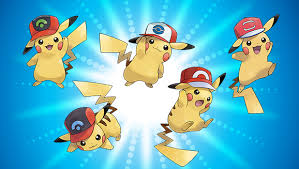pikachu: (154, 66, 228, 165), (96, 16, 197, 85), (16, 14, 87, 89), (228, 15, 281, 114), (53, 81, 123, 150)
